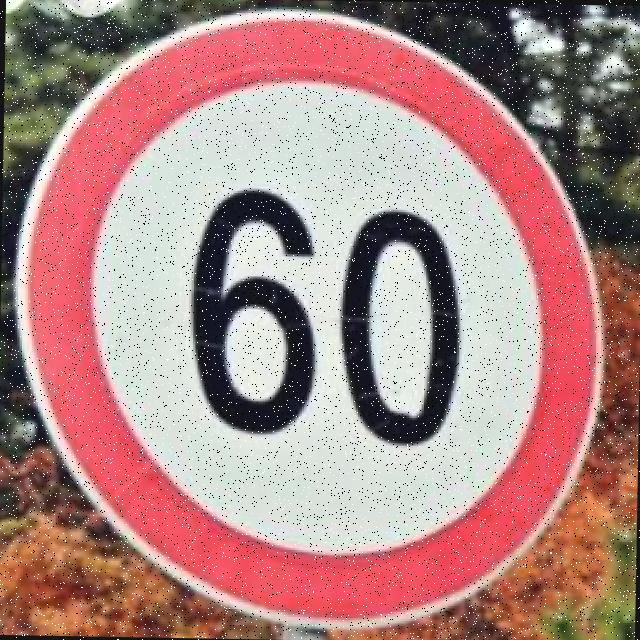Ograniczenie predkosci do 60: (7, 4, 604, 624)
